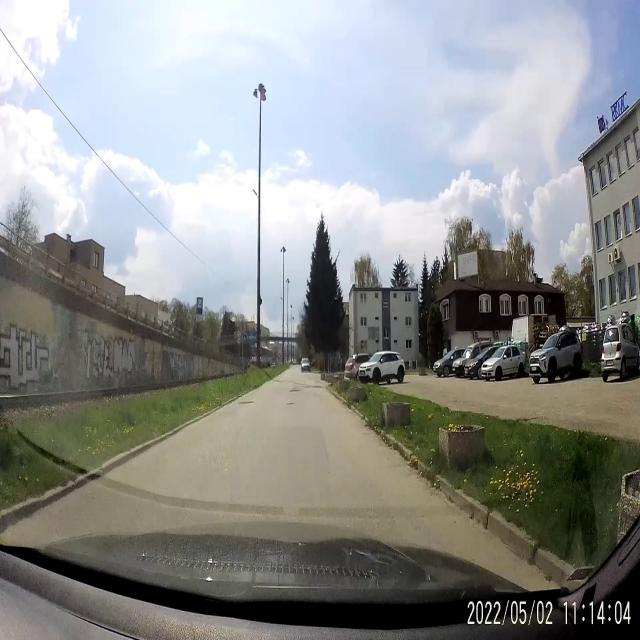Pothole: (237, 398, 255, 408), (288, 388, 301, 396), (284, 400, 296, 408)
